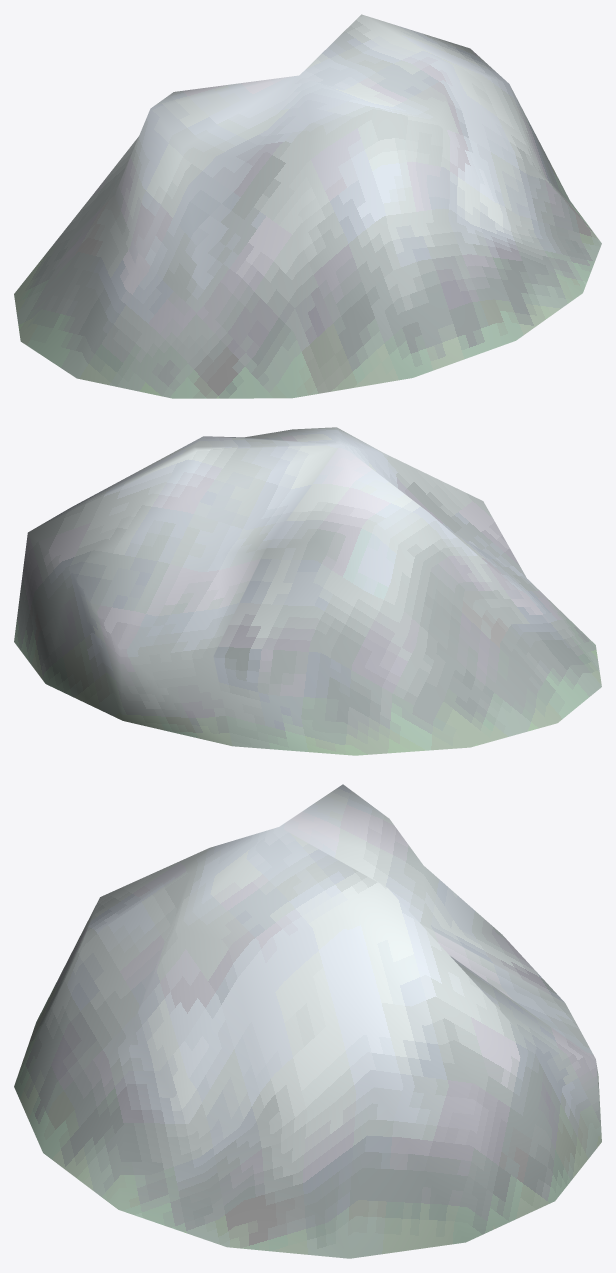
Rendered from TROLLHOLE02_STONEA17.fbx.
The picture shows the model from 3 angles, top to bottom: view 1: azimuth 30°, elevation 25°; view 2: azimuth 150°, elevation 25°; view 3: azimuth 270°, elevation 25°; orthographic projection. The views are drawn at different scales.
Parts seen in each view (by area): view 1: TROLLHOLE02_STONEA17; view 2: TROLLHOLE02_STONEA17; view 3: TROLLHOLE02_STONEA17.
Part boxes in pixels (x1,y1,x2,y2): TROLLHOLE02_STONEA17: [14, 14, 601, 398]; TROLLHOLE02_STONEA17: [14, 427, 601, 755]; TROLLHOLE02_STONEA17: [14, 784, 601, 1258].
Size of the model in its own units: 16637 by 6320 by 12933.
1 material, 1 textured.
